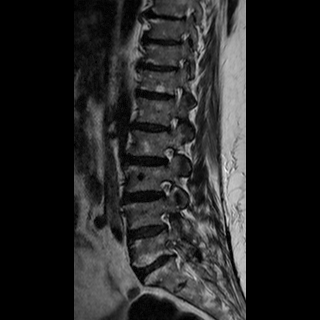RFS0: (153, 174, 177, 205), (156, 140, 177, 170), (155, 207, 178, 234)
